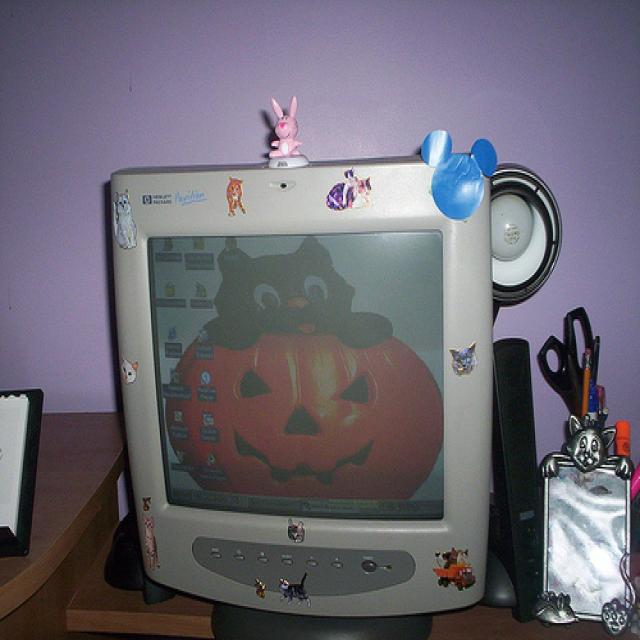tvmonitor: (107, 157, 494, 639)
